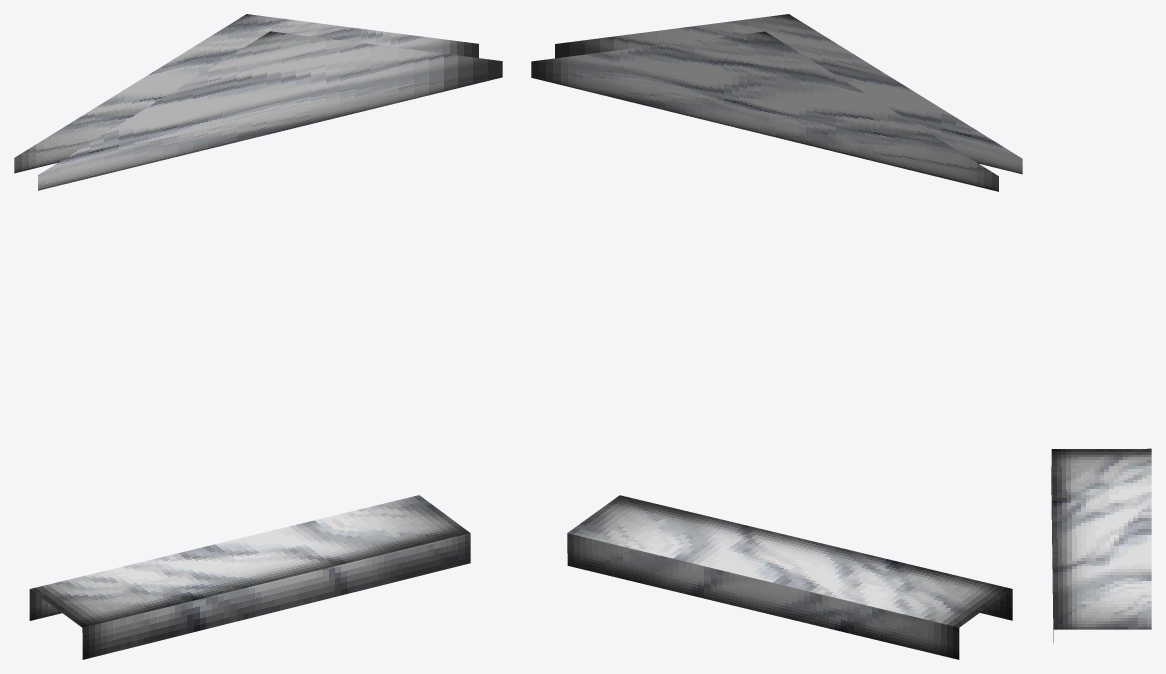
The model's file is tuer_klein_fix [Copy 1]_2808.glb.
3 views of the same model, side by side, from view 1: azimuth 30°, elevation 25°; view 2: azimuth 150°, elevation 25°; view 3: azimuth 270°, elevation 25° (orthographic). The views are drawn at different scales.
Visible parts, largest first — view 1: pPlaneShape20, pPlaneShape17, pPlaneShape18, pPlaneShape21; view 2: pPlaneShape21, pPlaneShape17, pPlaneShape19, pPlaneShape20; view 3: pPlaneShape17, pPlaneShape18.
Part boxes in pixels (x1,y1,x2,y2): pPlaneShape20: (38,31,502,190); pPlaneShape17: (30,495,470,627); pPlaneShape18: (82,533,470,659); pPlaneShape21: (14,14,478,173); pPlaneShape21: (531,31,998,191); pPlaneShape17: (567,495,1011,627); pPlaneShape19: (567,533,959,659); pPlaneShape20: (555,14,1022,174); pPlaneShape17: (1051,448,1151,629); pPlaneShape18: (1051,453,1053,642).
Size of the model in its own units: 0.2926 by 0.3412 by 0.0579.
Materials: 5 (5 with a texture image).
